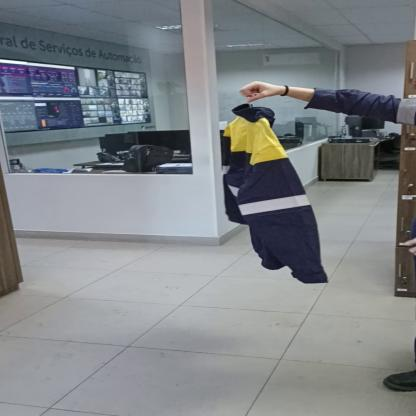C_eletrica: (215, 106, 332, 283)
